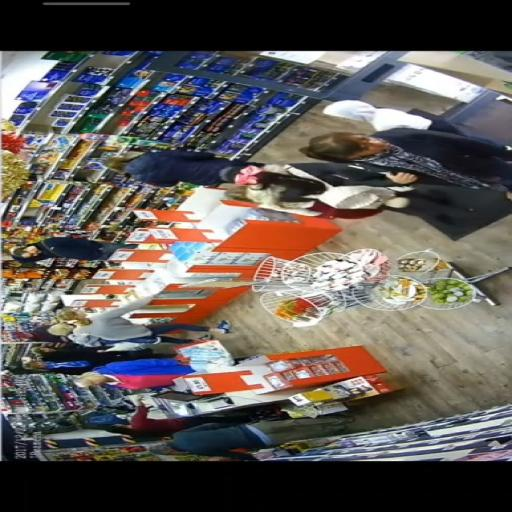workers: (56, 352, 200, 393), (11, 234, 106, 270)
